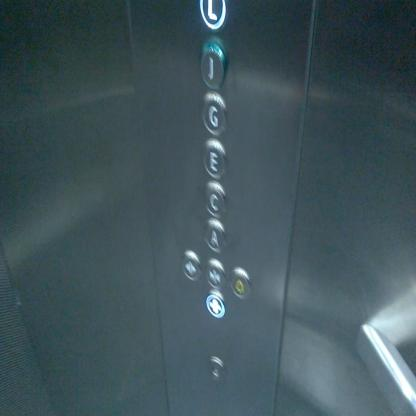A: (202, 215, 229, 252)
C: (202, 178, 228, 218)
E: (202, 136, 228, 180)
G: (200, 91, 228, 135)
J: (199, 39, 227, 91)
alarm: (230, 268, 251, 300)
close: (206, 257, 224, 291)
fan: (205, 289, 226, 320)
open: (183, 249, 200, 286)
